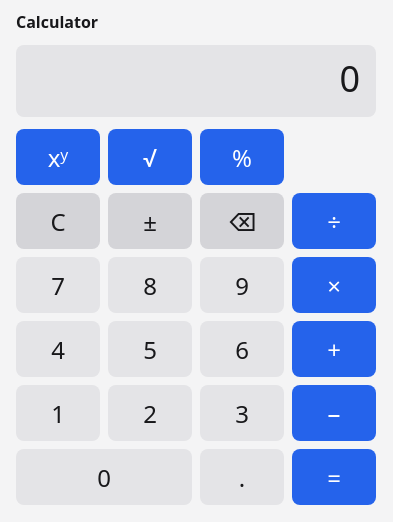
Test: App › enters a decimal number
Click the button "3".
click(242, 413)  # box [200, 385, 284, 441]
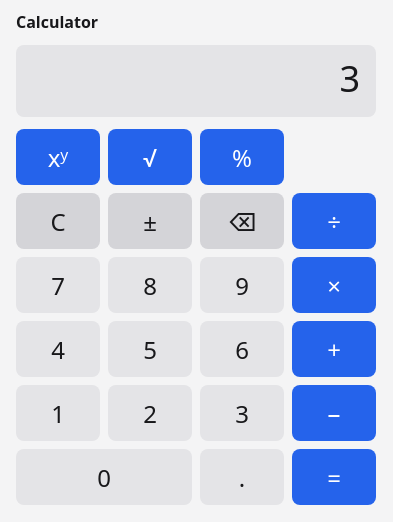
Click the button named "Decimal point".
click(242, 477)  # box [200, 449, 284, 505]
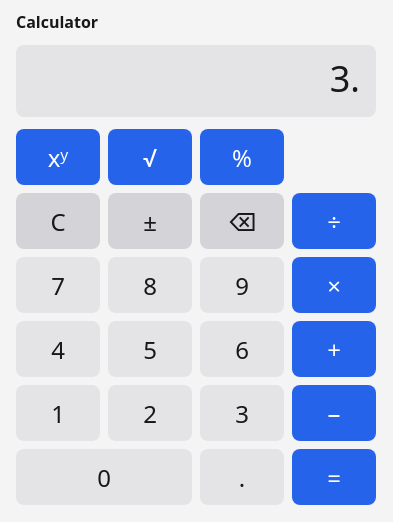
Click the button "1".
click(58, 413)  # box [16, 385, 100, 441]
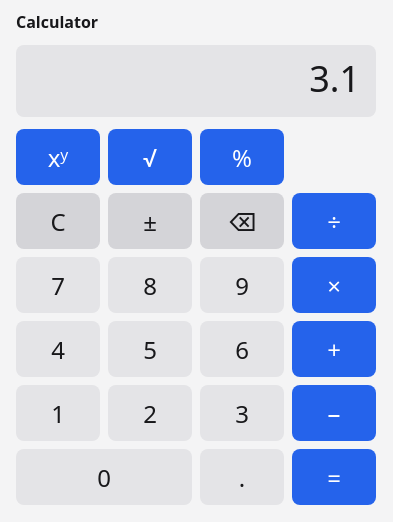
Click the button "4".
click(58, 349)  # box [16, 321, 100, 377]
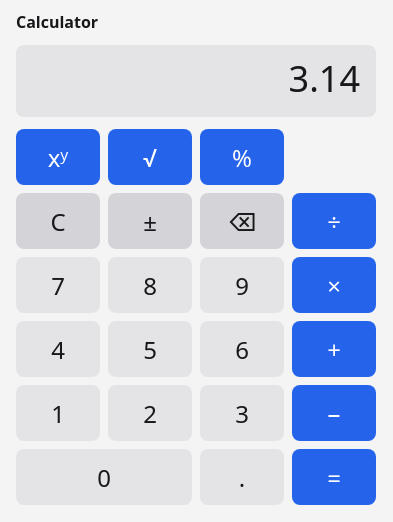
Expected: the message named "Display" reads "3.14", [289, 54, 360, 103]
